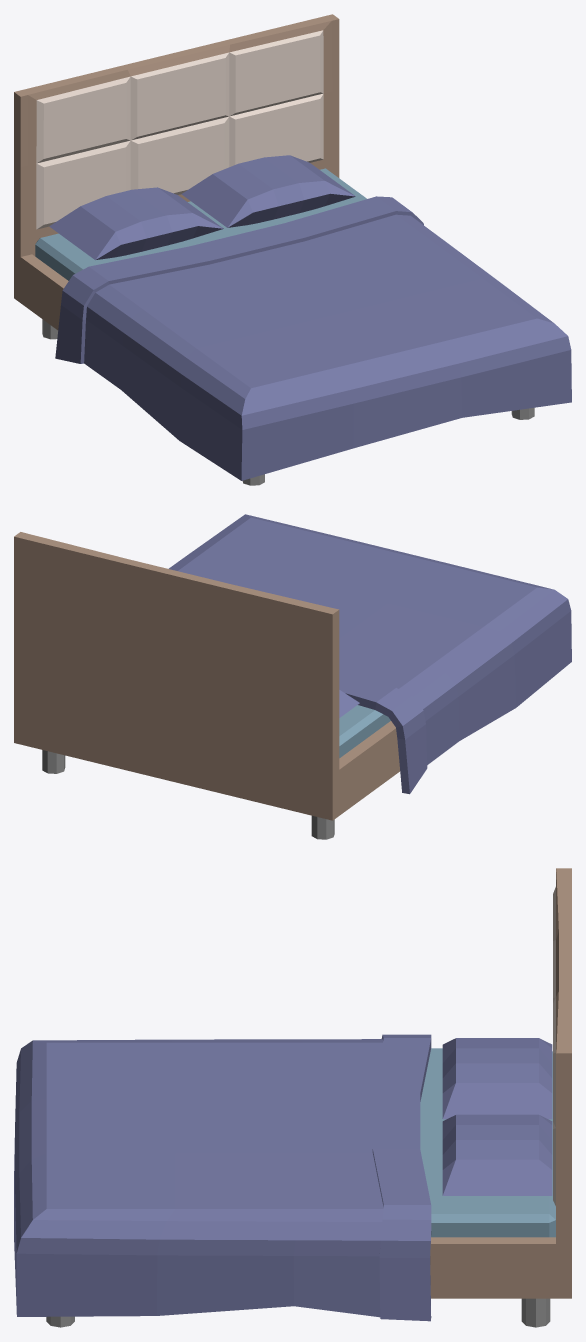
The model's file is Bed_5.fbx.
3 views of the same model, one above another, from view 1: azimuth 30°, elevation 25°; view 2: azimuth 150°, elevation 25°; view 3: azimuth 270°, elevation 25° (orthographic). The views are drawn at different scales.
Parts seen in each view (by area): view 1: Bed_5; view 2: Bed_5; view 3: Bed_5.
Part boxes in pixels (x1=…): Bed_5: x1=14, y1=14, x2=571, y2=485; Bed_5: x1=14, y1=514, x2=571, y2=839; Bed_5: x1=14, y1=868, x2=571, y2=1327.
Size of the model in its own units: 290 by 332 by 186.
